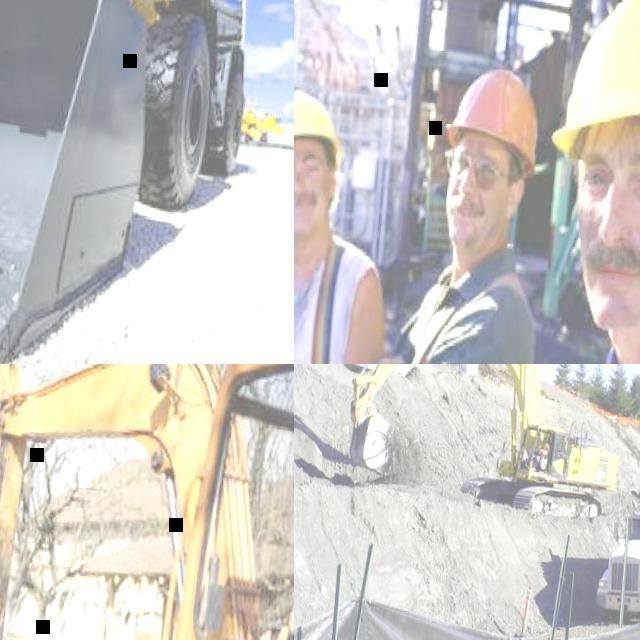Hardhat: (547, 0, 640, 156), (440, 59, 547, 177), (294, 82, 347, 169)
NO-Mask: (569, 229, 640, 339), (438, 191, 504, 250), (294, 186, 330, 236)
NO-Safety Vest: (362, 265, 538, 364), (294, 233, 368, 364)
Person: (337, 52, 564, 364), (503, 0, 640, 364), (294, 79, 413, 364), (532, 436, 551, 471)
Safety Vest: (538, 442, 550, 457)
machinery: (0, 0, 277, 364), (0, 364, 294, 640), (342, 364, 638, 525), (593, 494, 640, 624)
